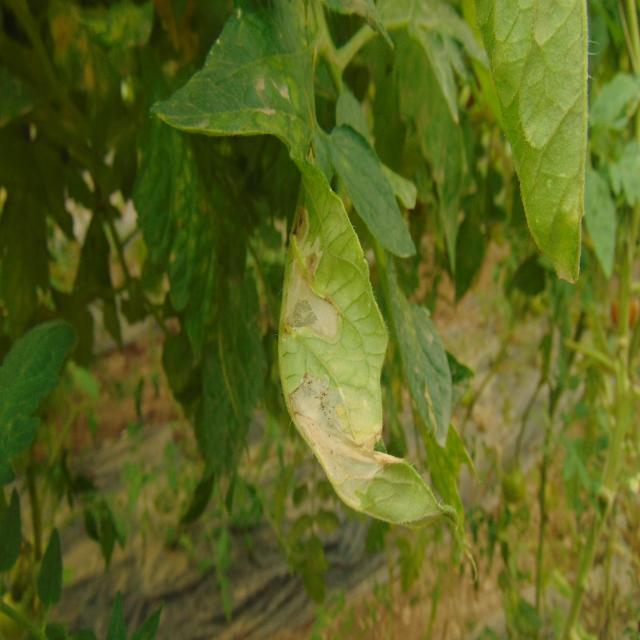Tuta absoluta: (266, 362, 401, 508), (283, 262, 345, 339), (283, 205, 331, 278)
